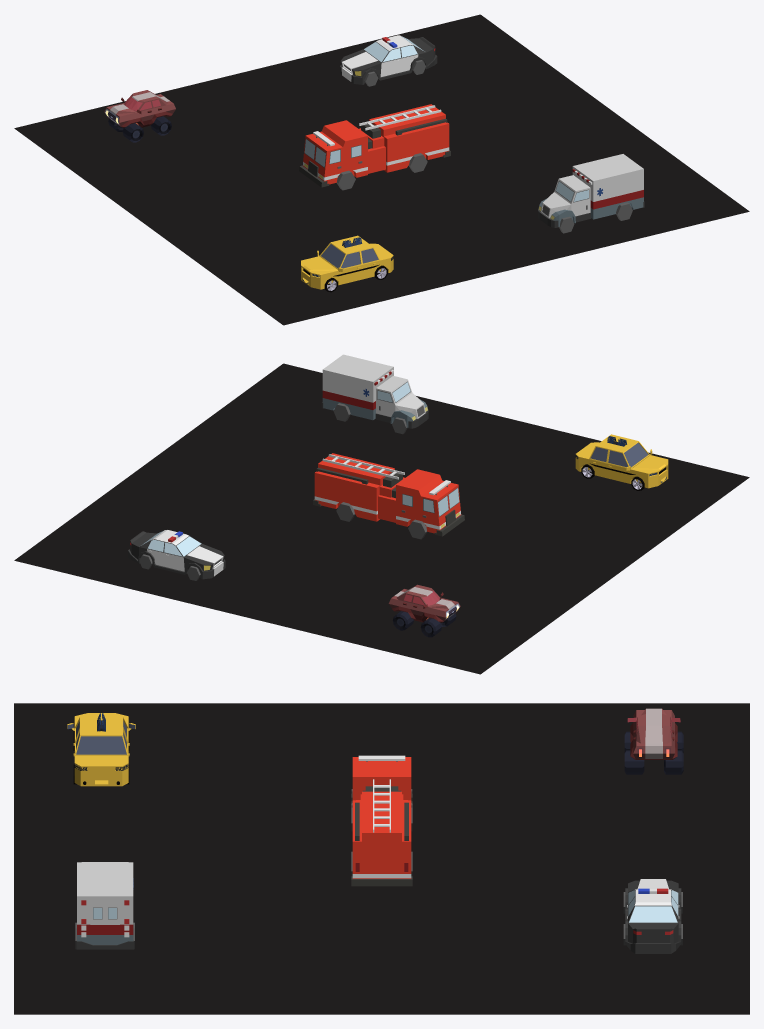
The model's file is Tile 18_Combined_3.fbx.
3 views of the same model, one above another, from view 1: azimuth 30°, elevation 25°; view 2: azimuth 150°, elevation 25°; view 3: azimuth 270°, elevation 25° (orthographic). The views are drawn at different scales.
Parts seen in each view (by area): view 1: MeshBaker_mesh_mesh; view 2: MeshBaker_mesh_mesh; view 3: MeshBaker_mesh_mesh.
Part boxes in pixels (x1,y1,x2,y2): MeshBaker_mesh_mesh: [14, 14, 749, 325]; MeshBaker_mesh_mesh: [14, 354, 749, 674]; MeshBaker_mesh_mesh: [14, 703, 749, 1014].
Bounding box in the file's own units: 3000 × 300 × 3000.
